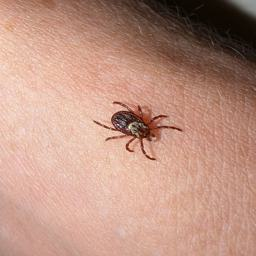Dermacentor variabilis: (92, 101, 184, 161)
